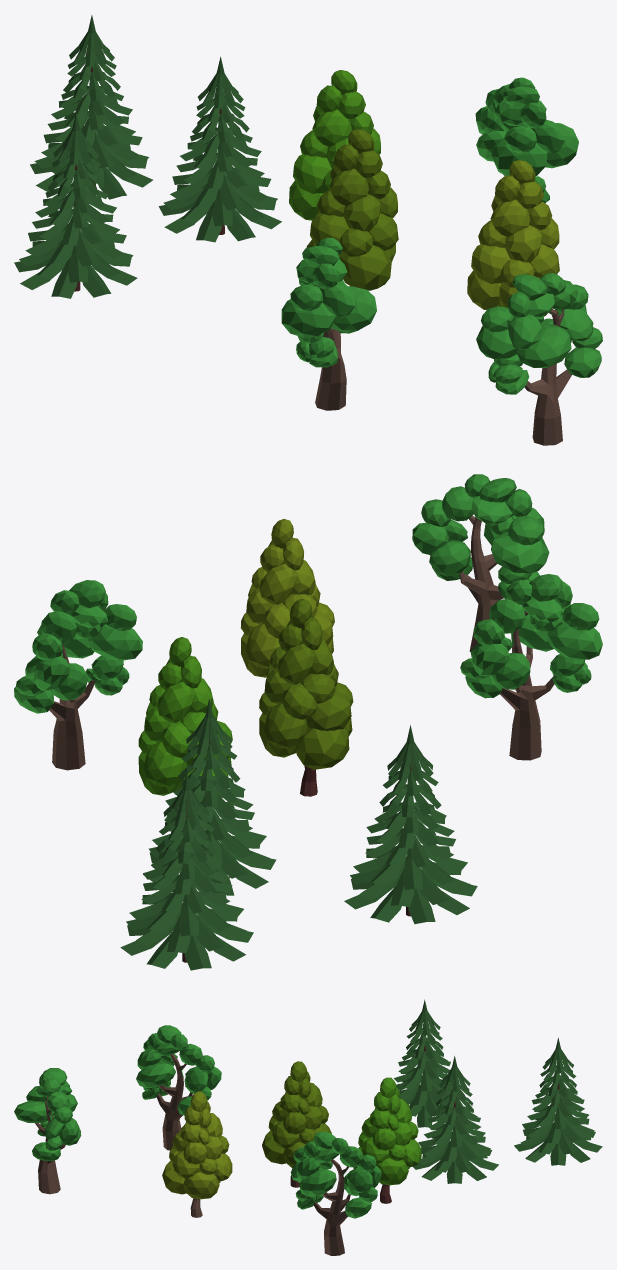
File: trees3.obj
3 renders of one model, top to bottom at view 1: azimuth 30°, elevation 25°; view 2: azimuth 150°, elevation 25°; view 3: azimuth 270°, elevation 25°, orthographic. The views are drawn at different scales.
Parts seen in each view (by area): view 1: Fir_tree_Cylinder_005, Fir_tree_Cylinder_003, Oak_Cylinder_004, Poplar_Cylinder_006, Fir_tree_Cylinder_004, Poplar_Cylinder_007, Oak_Cylinder_009, Oak_Cylinder_008, Poplar_Cylinder_005, trunk1, trunk003; view 2: Fir_tree_Cylinder_004, Fir_tree_Cylinder_003, Oak_Cylinder_009, Poplar_Cylinder_006, Oak_Cylinder_008, Oak_Cylinder_004, Fir_tree_Cylinder_005, Poplar_Cylinder_005, Poplar_Cylinder_007, trunk003, trunk002, trunk1; view 3: Fir_tree_Cylinder_004, Fir_tree_Cylinder_005, Poplar_Cylinder_007, Oak_Cylinder_008, Poplar_Cylinder_005, Poplar_Cylinder_006, Oak_Cylinder_009, Fir_tree_Cylinder_003, Oak_Cylinder_004, trunk002, trunk003, trunk1.
Part boxes in pixels (x1,y1,x2,y2): Fir_tree_Cylinder_005: [158, 56, 281, 242]; Fir_tree_Cylinder_003: [14, 112, 137, 298]; Oak_Cylinder_004: [476, 273, 602, 394]; Poplar_Cylinder_006: [306, 129, 398, 290]; Fir_tree_Cylinder_004: [30, 15, 152, 199]; Poplar_Cylinder_007: [467, 160, 559, 316]; Oak_Cylinder_009: [281, 237, 376, 367]; Oak_Cylinder_008: [475, 77, 578, 203]; Poplar_Cylinder_005: [289, 70, 380, 220]; trunk1: [524, 309, 571, 445]; trunk003: [315, 328, 346, 410]; Fir_tree_Cylinder_004: [120, 771, 253, 970]; Fir_tree_Cylinder_003: [344, 725, 477, 924]; Oak_Cylinder_009: [460, 574, 602, 698]; Poplar_Cylinder_006: [259, 598, 353, 769]; Oak_Cylinder_008: [14, 580, 142, 713]; Oak_Cylinder_004: [412, 474, 549, 599]; Fir_tree_Cylinder_005: [143, 699, 276, 895]; Poplar_Cylinder_005: [138, 637, 232, 801]; Poplar_Cylinder_007: [240, 519, 334, 677]; trunk003: [500, 610, 554, 760]; trunk002: [49, 644, 94, 770]; trunk1: [459, 515, 503, 651]; Fir_tree_Cylinder_004: [514, 1037, 602, 1165]; Fir_tree_Cylinder_005: [413, 1056, 498, 1183]; Poplar_Cylinder_007: [162, 1091, 232, 1199]; Oak_Cylinder_008: [290, 1131, 381, 1218]; Poplar_Cylinder_005: [353, 1077, 421, 1185]; Poplar_Cylinder_006: [262, 1061, 331, 1168]; Oak_Cylinder_009: [136, 1025, 221, 1115]; Fir_tree_Cylinder_003: [394, 999, 457, 1127]; Oak_Cylinder_004: [14, 1068, 81, 1161]; trunk002: [314, 1159, 350, 1255]; trunk003: [156, 1054, 192, 1150]; trunk1: [35, 1096, 65, 1194].
Size of the model in its own units: 16.11 by 5.82 by 24.87.
